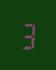three: (19, 19, 34, 50)
